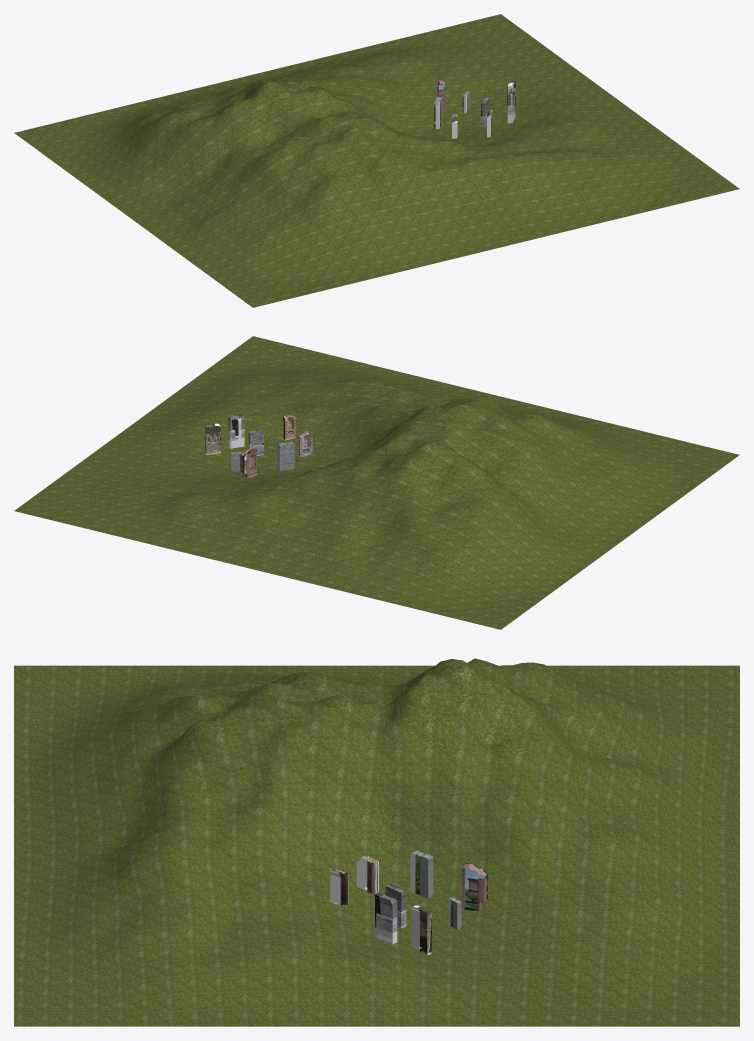
The model's file is All.fbx.
The picture shows the model from 3 angles, top to bottom: view 1: azimuth 30°, elevation 25°; view 2: azimuth 150°, elevation 25°; view 3: azimuth 270°, elevation 25°; orthographic projection. The views are drawn at different scales.
Parts seen in each view (by area): view 1: Landscape; view 2: Landscape, ShapeIndexedFaceSet.007, ShapeIndexedFaceSet.004; view 3: Landscape, ShapeIndexedFaceSet.006, ShapeIndexedFaceSet.007, ShapeIndexedFaceSet.001, ShapeIndexedFaceSet.004, ShapeIndexedFaceSet, ShapeIndexedFaceSet.005.
Boxes of the visible parts, bbox=[...] form: Landscape: bbox=[14, 14, 739, 307]; Landscape: bbox=[14, 336, 739, 629]; ShapeIndexedFaceSet.007: bbox=[228, 414, 244, 448]; ShapeIndexedFaceSet.004: bbox=[205, 423, 220, 454]; Landscape: bbox=[14, 658, 739, 1026]; ShapeIndexedFaceSet.006: bbox=[461, 863, 487, 910]; ShapeIndexedFaceSet.007: bbox=[374, 893, 397, 944]; ShapeIndexedFaceSet.001: bbox=[410, 850, 433, 898]; ShapeIndexedFaceSet.004: bbox=[411, 905, 431, 955]; ShapeIndexedFaceSet: bbox=[356, 856, 378, 894]; ShapeIndexedFaceSet.005: bbox=[329, 868, 348, 906].
Bounding box in the file's own units: 3015 × 472 × 2563.
